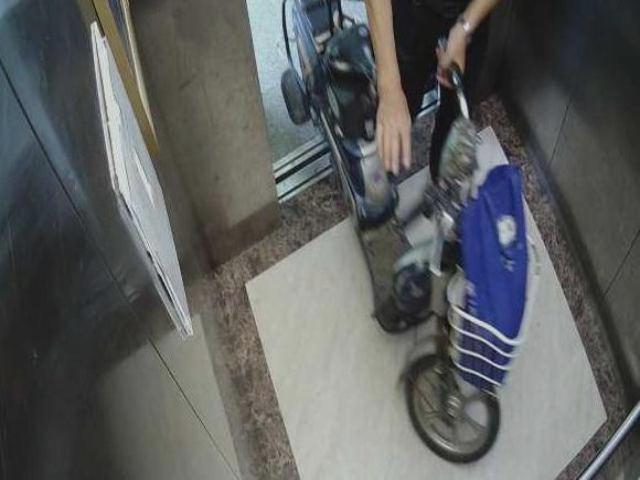emotor: (280, 3, 526, 457)
